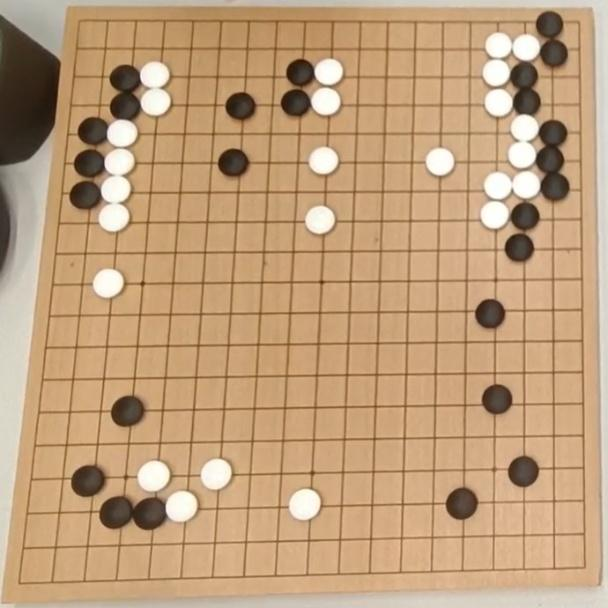corners: (559, 542, 606, 588), (9, 553, 40, 602), (564, 6, 598, 41), (70, 6, 97, 48)
